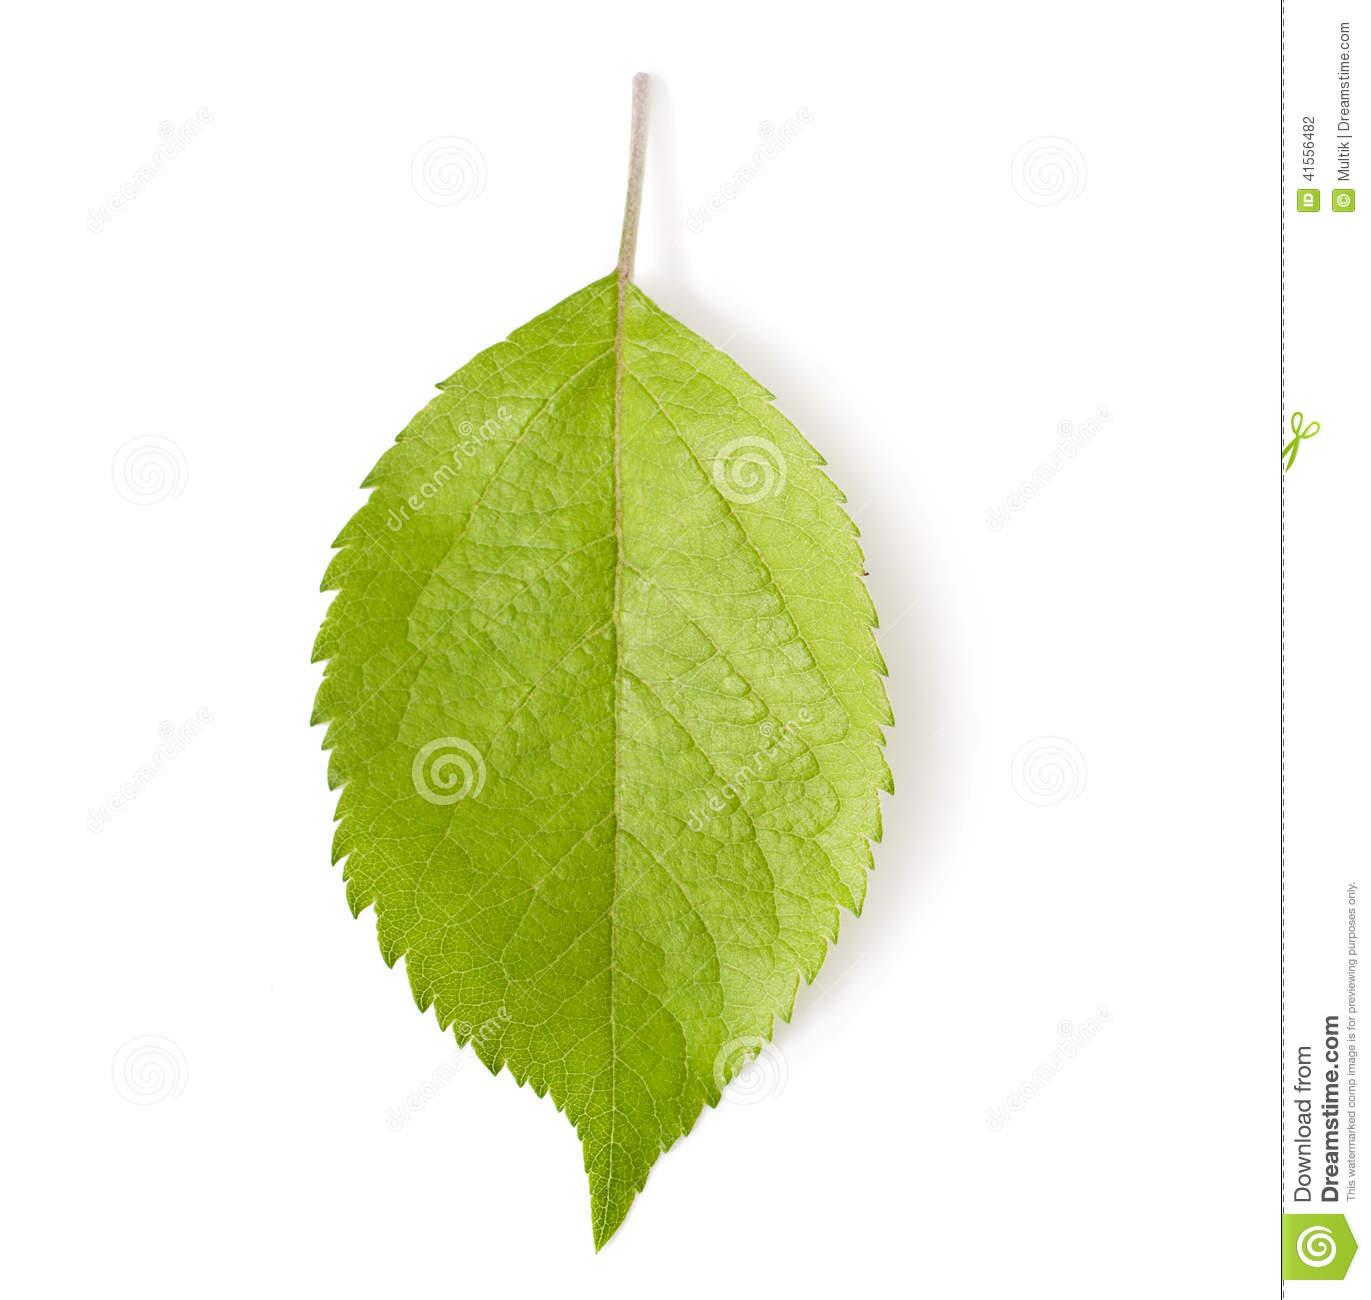Apple leaf: (303, 303, 927, 1295)
